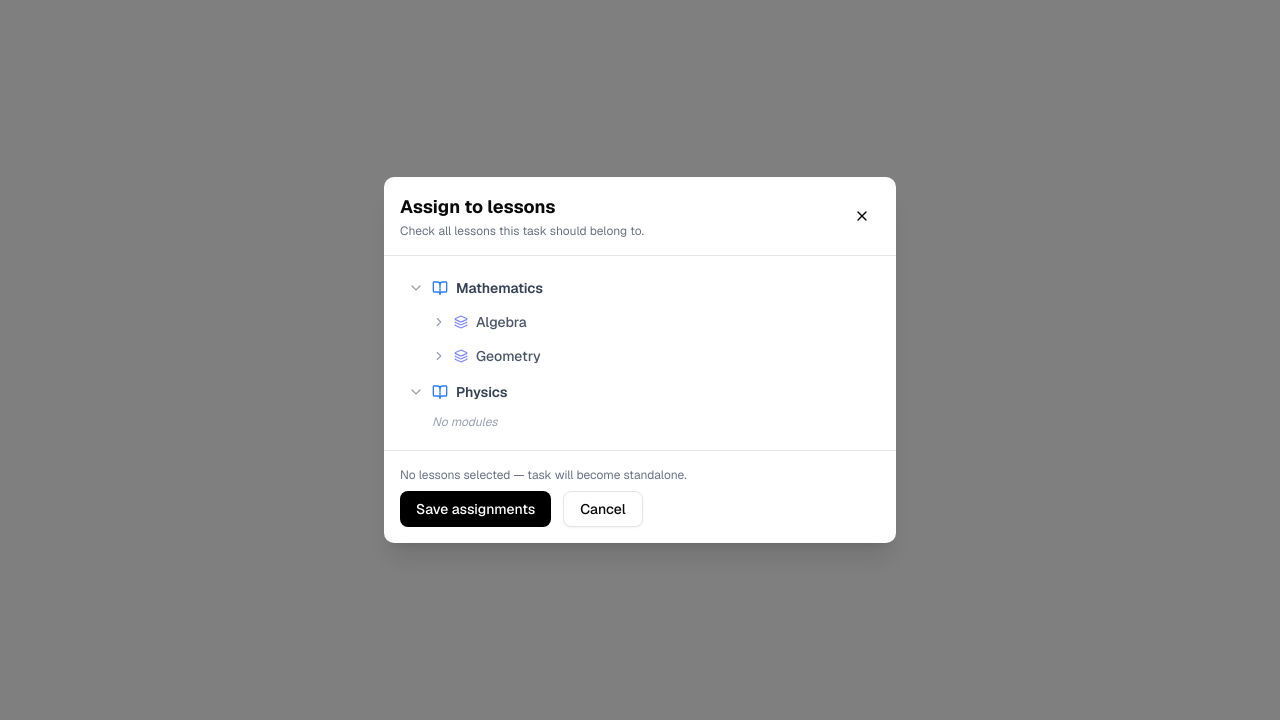
AssignToLessonDialog › expands modules to show lessons
This screenshot has width=1280, height=720.
Expected: the button "Mathematics" is shown, left=400, top=272, right=880, bottom=304
What coordinates should you click on to do the following:
click the button with test id "module-module-1"
I would click on:
 (501, 322)
Its box is left=424, top=306, right=880, bottom=338.
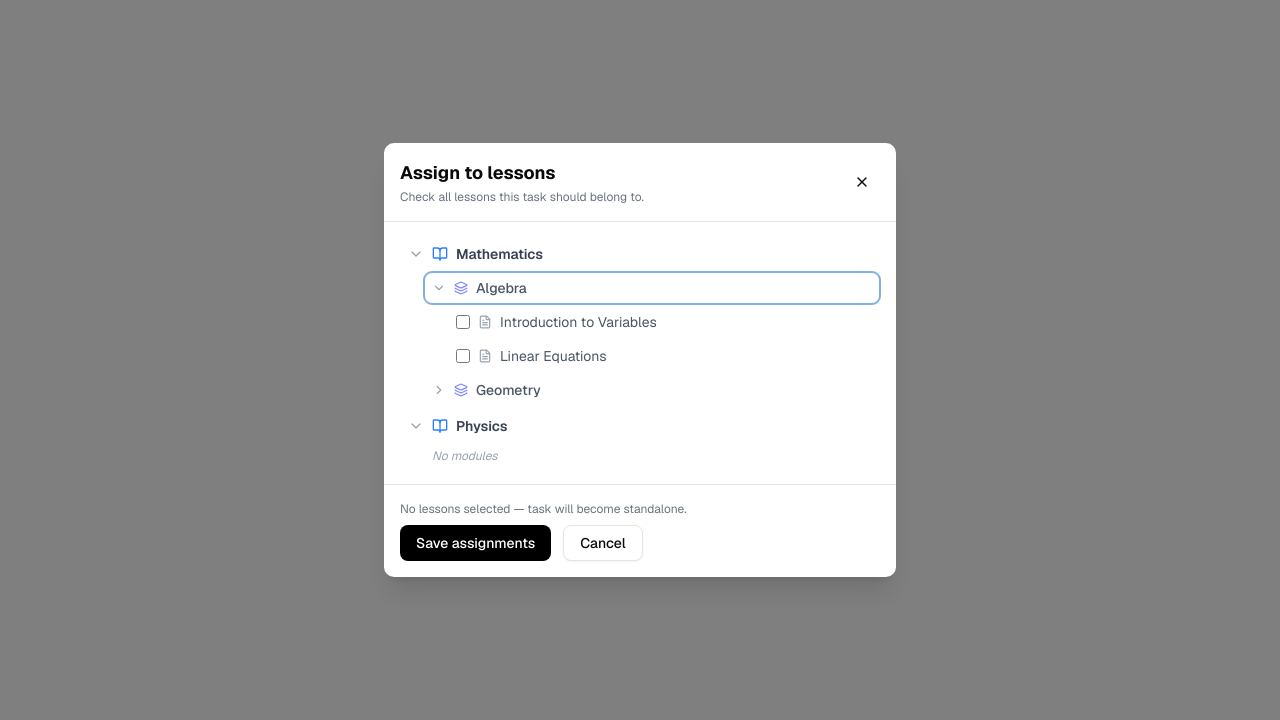
Expected: the text "Introduction to Variables" is shown, left=456, top=313, right=657, bottom=331
Expected: the text "Linear Equations" is shown, left=456, top=347, right=606, bottom=365
